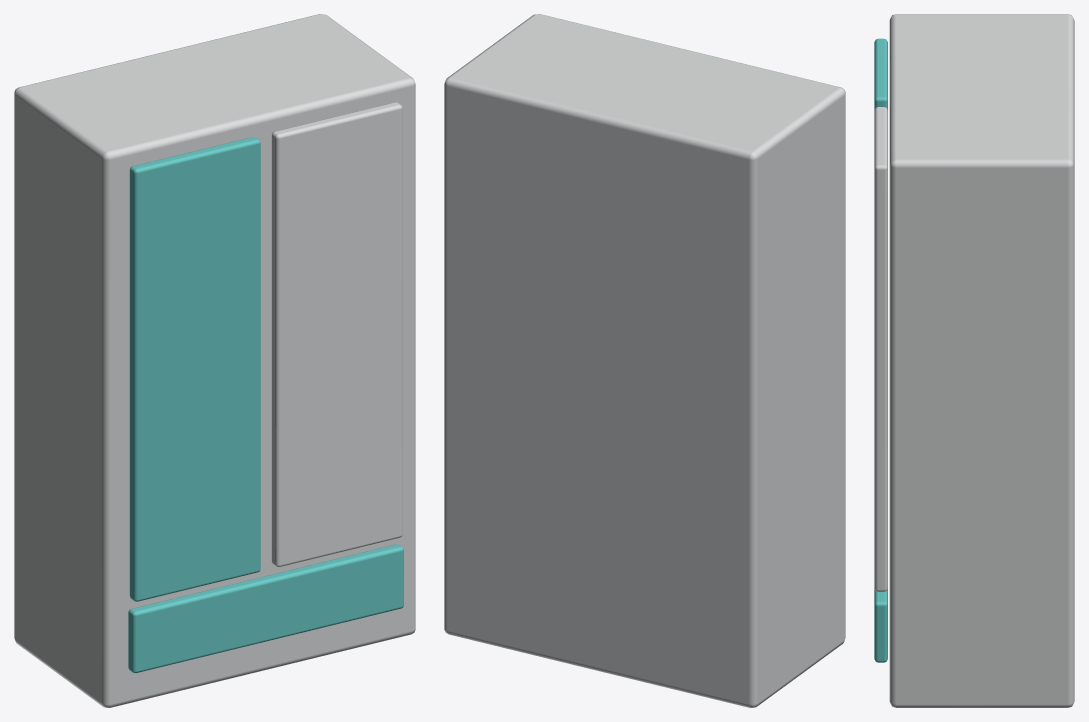
The model's file is living-wardrobe.glb.
3 renders of one model, left to right at view 1: azimuth 30°, elevation 25°; view 2: azimuth 150°, elevation 25°; view 3: azimuth 270°, elevation 25°, orthographic.
Parts seen in each view (by area): view 1: wardrobe-body, door-l, door-r, drawer; view 2: wardrobe-body; view 3: wardrobe-body, door-r, drawer, door-l.
Boxes of the visible parts, x1,y1,x2,y2 form: wardrobe-body: [14, 14, 415, 707]; door-l: [129, 137, 260, 601]; door-r: [271, 102, 402, 566]; drawer: [128, 544, 403, 673]; wardrobe-body: [444, 14, 845, 707]; wardrobe-body: [889, 14, 1074, 707]; door-r: [874, 107, 887, 591]; drawer: [874, 588, 887, 662]; door-l: [874, 38, 887, 109].
Size of the model in its own units: 1.06 by 1.8 by 0.595.
